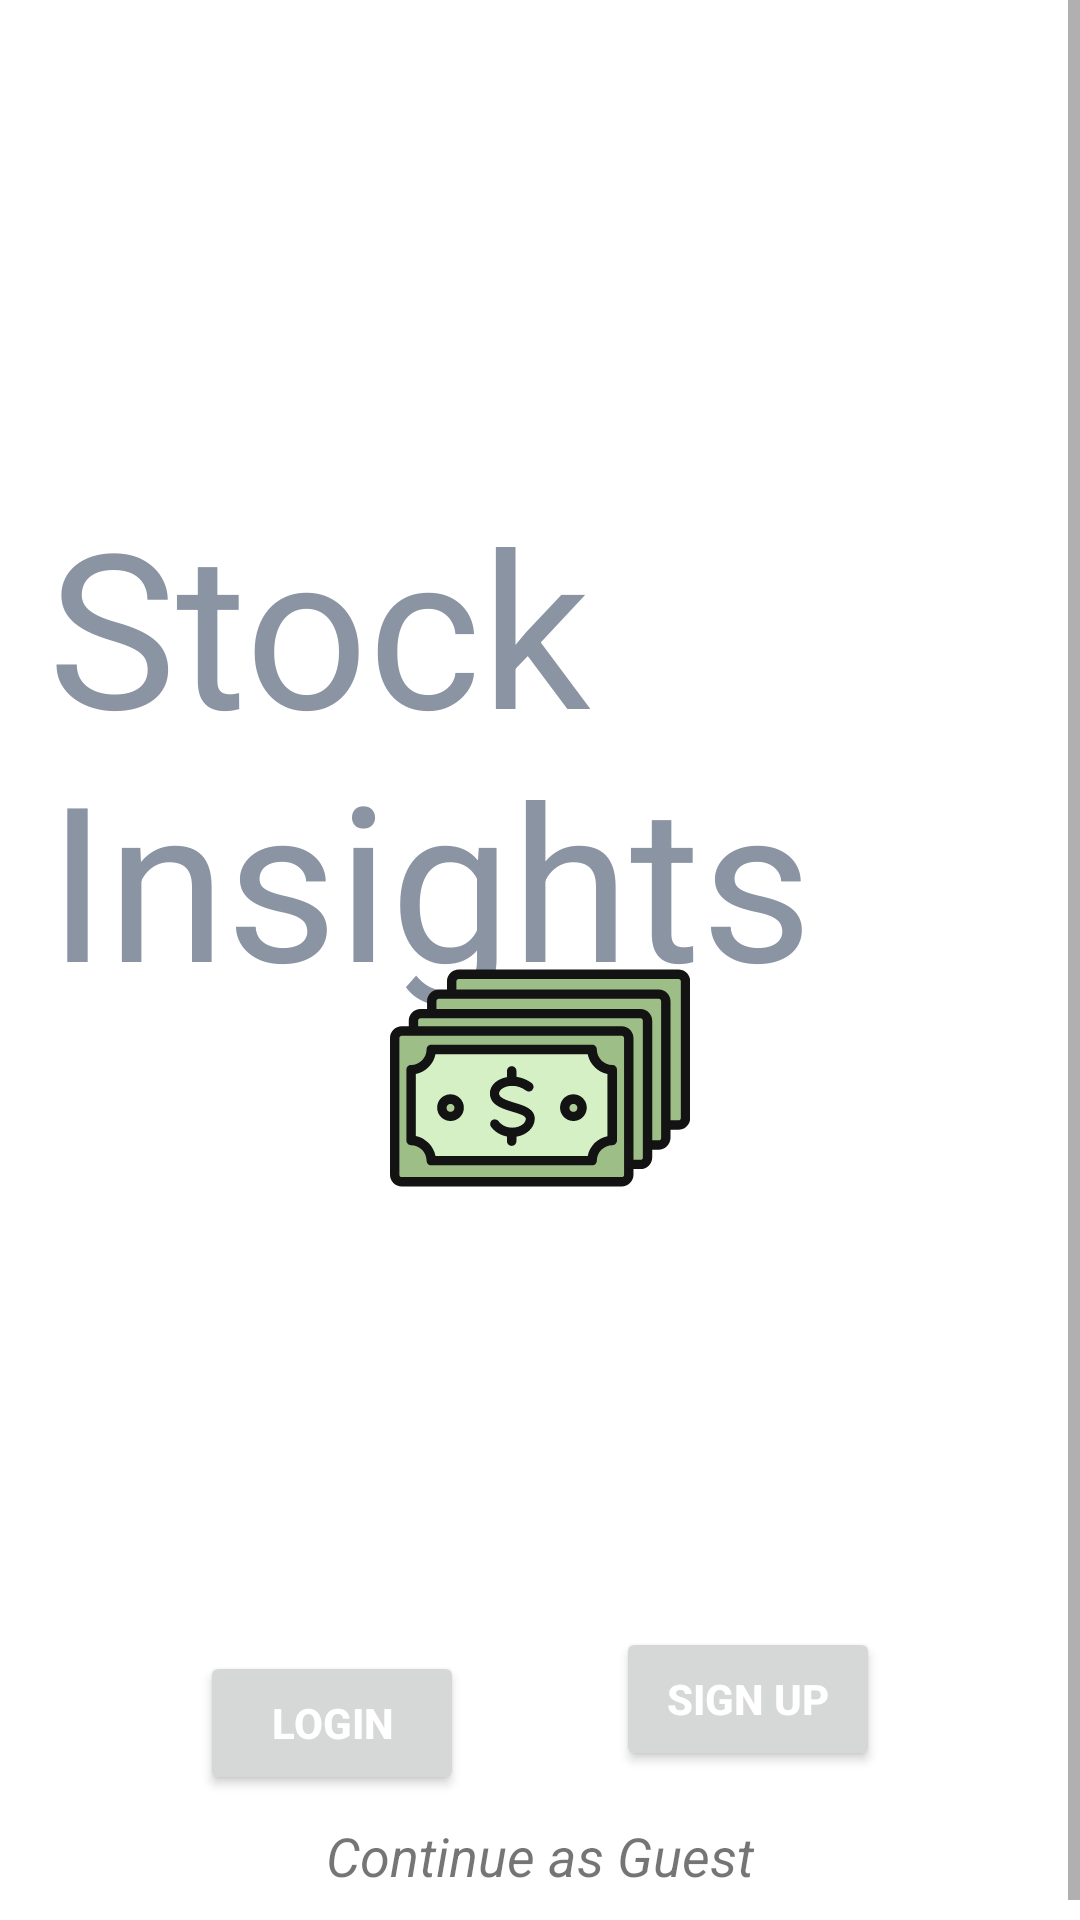

Where to tap for icons on this 1080 x 1920 app screen, as [x,y]:
Image of dollar bills: [540,1057]
